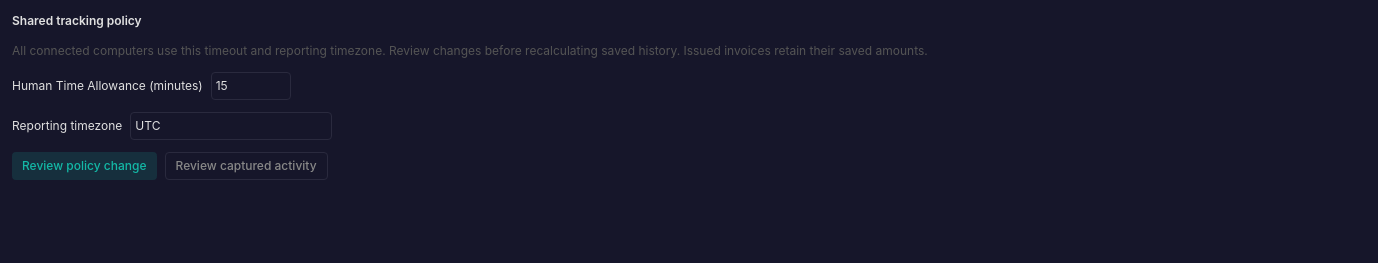
Test case: invalidates a displayed review immediately when its candidate changes
Replace the text in the number field named "Shared human time allowance" with "5" at (251, 86), box x1=211 y1=72 x2=291 y2=100
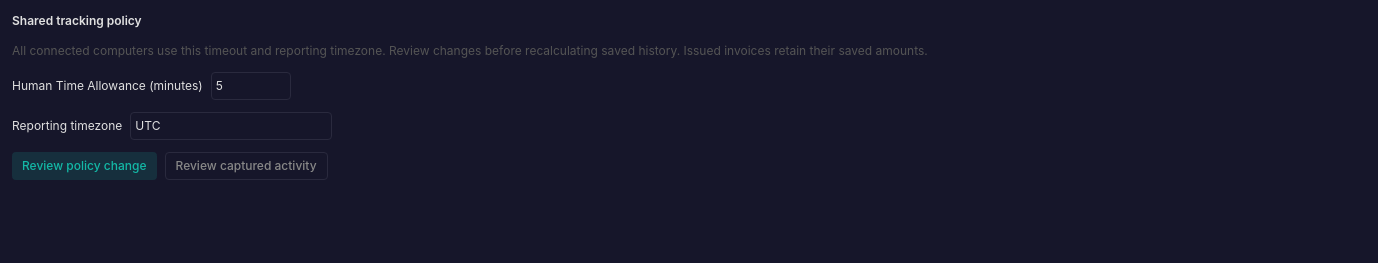
Click the button "Review policy change".
click(84, 166)  # box x1=12 y1=152 x2=156 y2=180
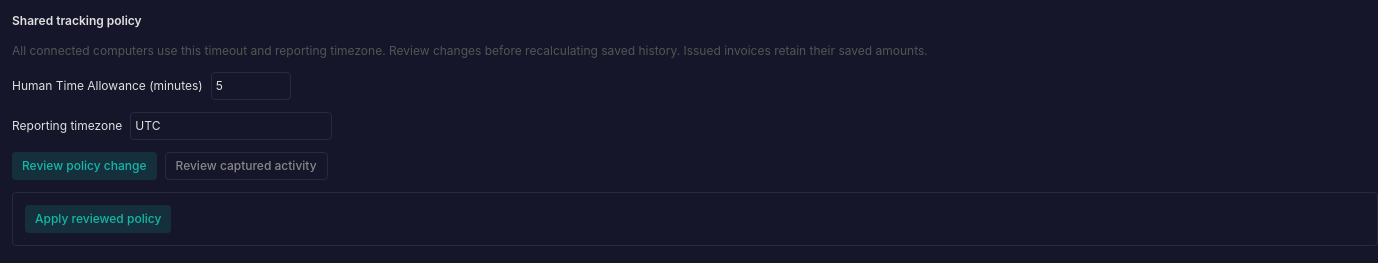
Now the button "Apply reviewed policy" is shown, box x1=25 y1=205 x2=171 y2=233
Replace the text in the field labelled "Reporting timezone" with "America/New_York" at (231, 126), box x1=130 y1=112 x2=332 y2=140
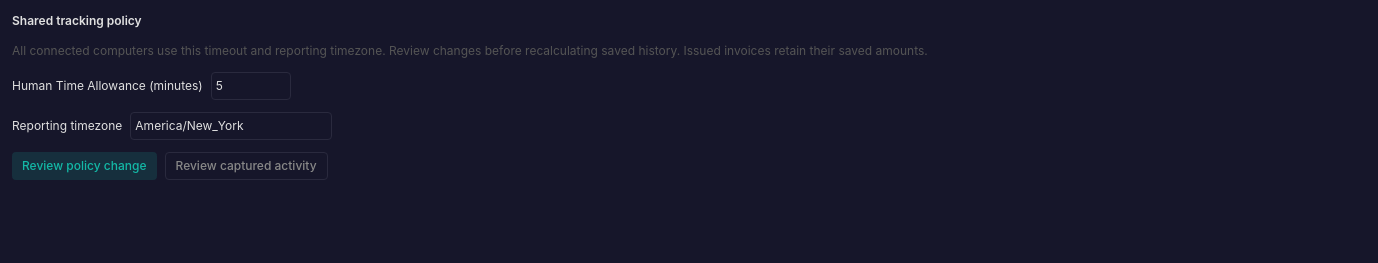
Now the button "Apply reviewed policy" is gone
